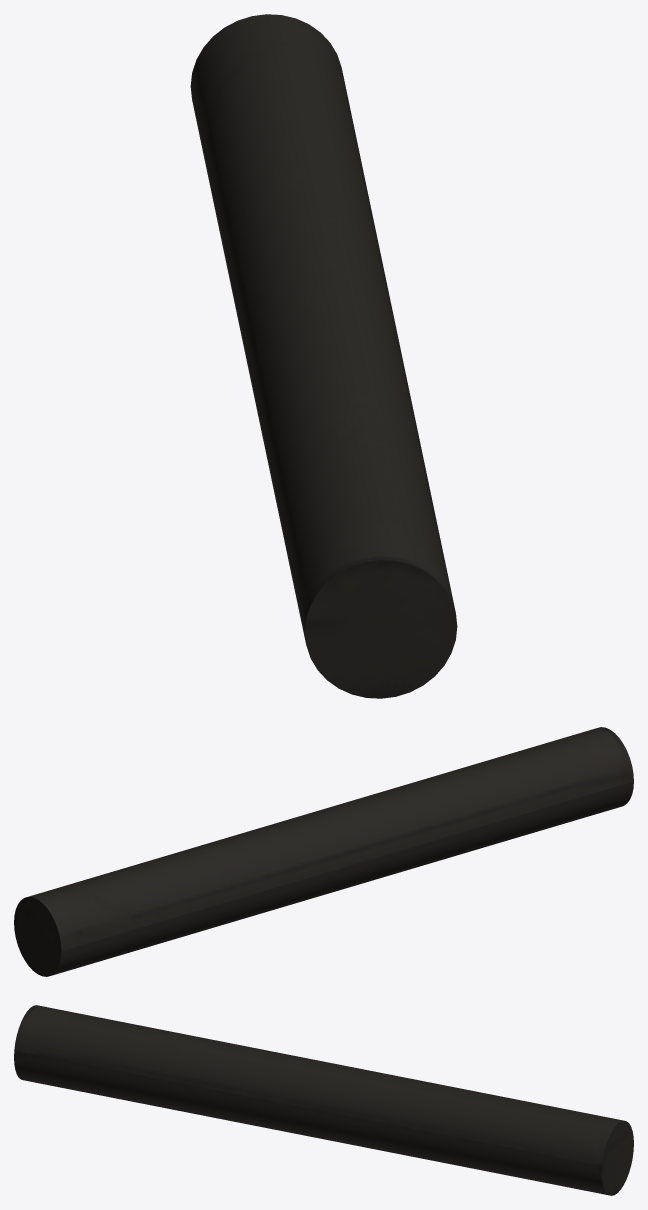
File: frame__rear_diag_1.glb
3 views of the same model, one above another, from view 1: azimuth 30°, elevation 25°; view 2: azimuth 150°, elevation 25°; view 3: azimuth 270°, elevation 25° (orthographic). The views are drawn at different scales.
Parts seen in each view (by area): view 1: world; view 2: world; view 3: world.
Boxes of the visible parts, x1,y1,x2,y2 form: world: [190, 14, 457, 698]; world: [14, 727, 633, 976]; world: [14, 1005, 633, 1195].
Size of the model in its own units: 0.1254 by 0.028 by 0.2268.
1 material, 1 textured.
